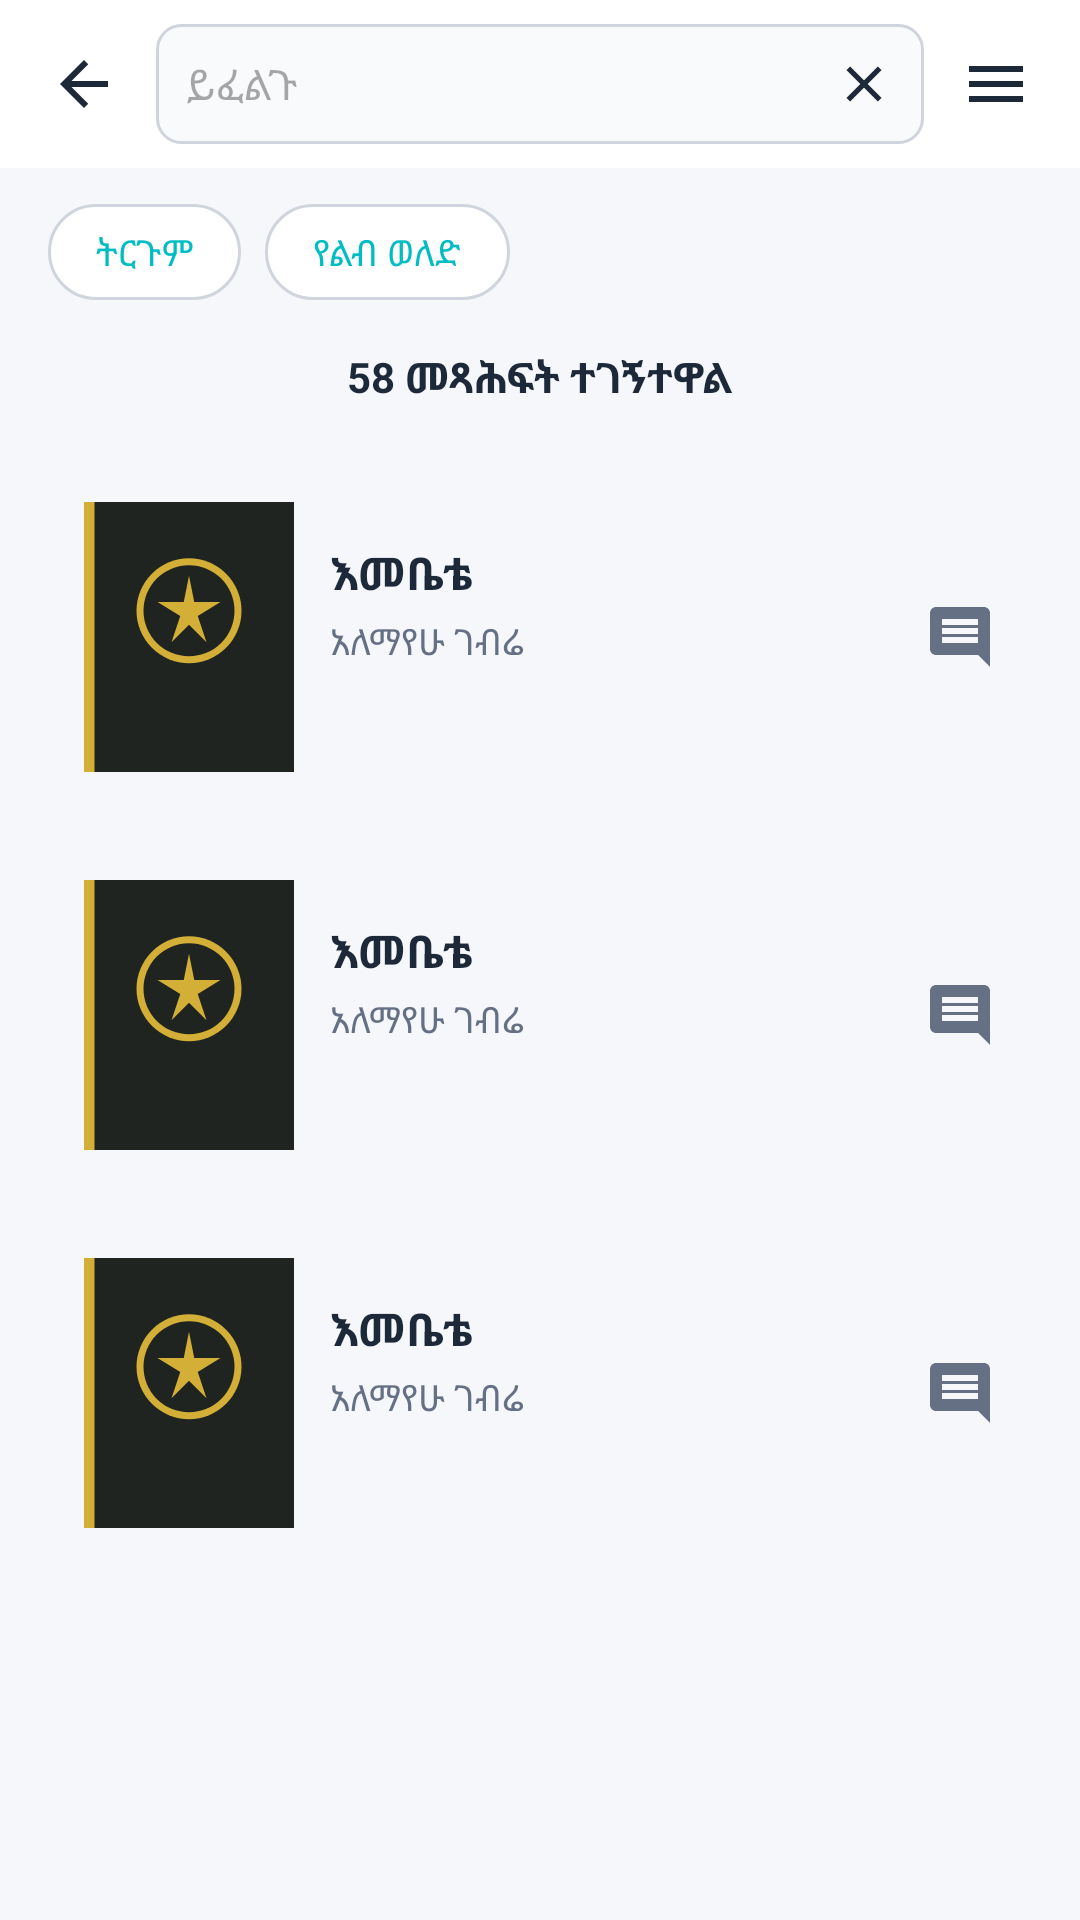

Locate icon controls on the screen. Image size 1080px×1920px, boxes as (x1, y1, x2, y2).
Comment: (930, 607, 990, 667), (930, 985, 990, 1045), (930, 1363, 990, 1423)
ማውጫ: (969, 66, 1023, 102)
ተመለስ: (60, 60, 108, 108)
አጽዳ: (846, 66, 882, 102)
